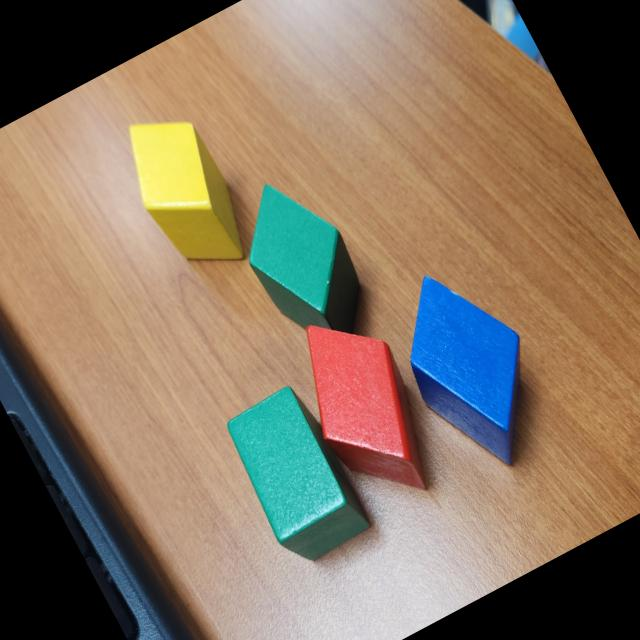blue: (372, 250, 572, 488)
green: (218, 164, 388, 366), (215, 381, 375, 574)
red: (270, 297, 458, 524)
yellow: (108, 98, 263, 290)
